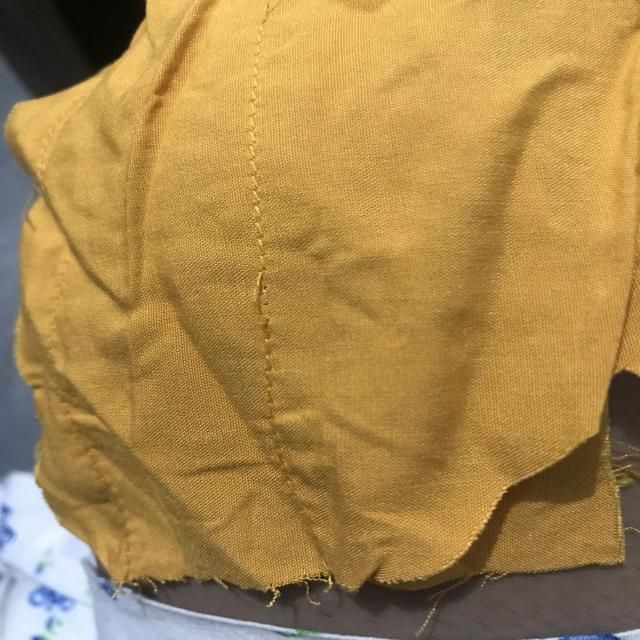broken: (238, 254, 284, 337)
good: (226, 125, 276, 214)
